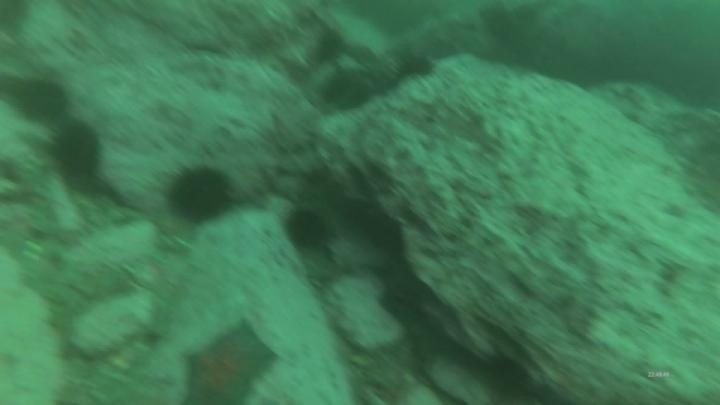echinus: (162, 160, 237, 227), (46, 118, 105, 183), (13, 76, 71, 125), (282, 205, 334, 253), (319, 69, 373, 113), (312, 27, 348, 66), (397, 51, 437, 82)
starfish: (179, 319, 279, 405)
